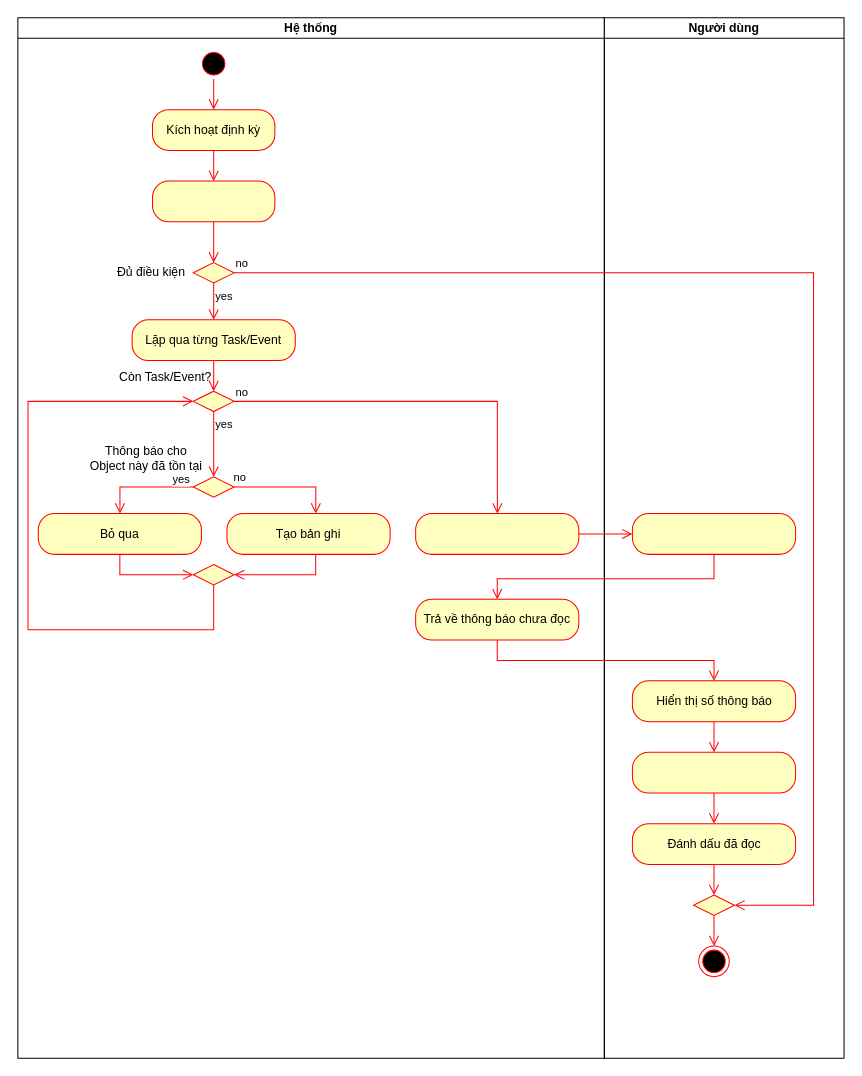
Image size: 862x1076. Some labels were removed from this diagram. Each missing label, with the box of its shape:
Lưu vào db: (415, 513, 579, 554)
Mở ứng dụng: (631, 513, 796, 554)
Quét Task/Event: (151, 180, 275, 222)
Xem thông báo: (631, 751, 796, 793)
